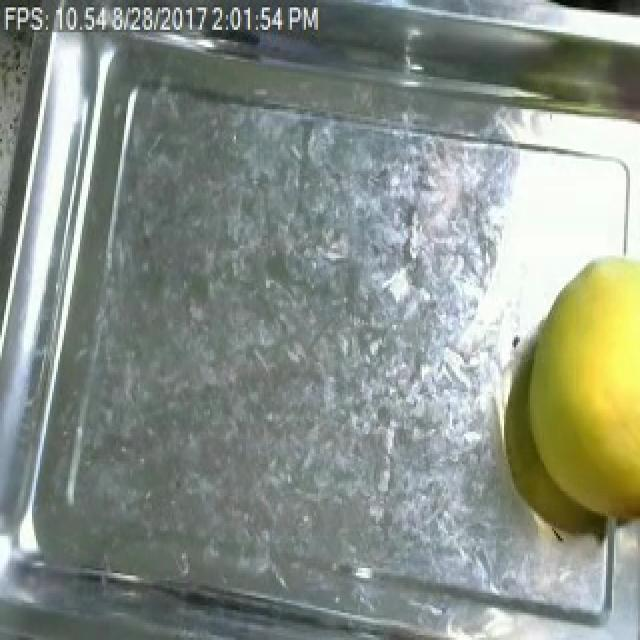fruit: (502, 238, 640, 543)
